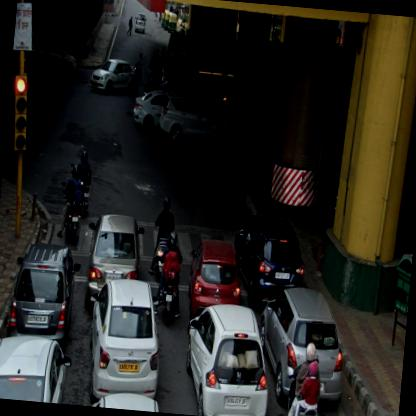bus: (160, 31, 238, 97)
car: (254, 284, 351, 408), (180, 300, 277, 415), (82, 276, 166, 408), (229, 213, 309, 314), (5, 242, 82, 343), (82, 213, 146, 309), (0, 331, 74, 405), (186, 236, 246, 320), (157, 94, 234, 148), (132, 86, 178, 132), (89, 56, 137, 98), (36, 42, 78, 74), (133, 13, 147, 36)
motorcycle: (152, 230, 188, 326), (285, 341, 327, 415), (147, 195, 177, 281), (57, 165, 84, 243), (70, 150, 94, 214), (132, 52, 156, 88)
